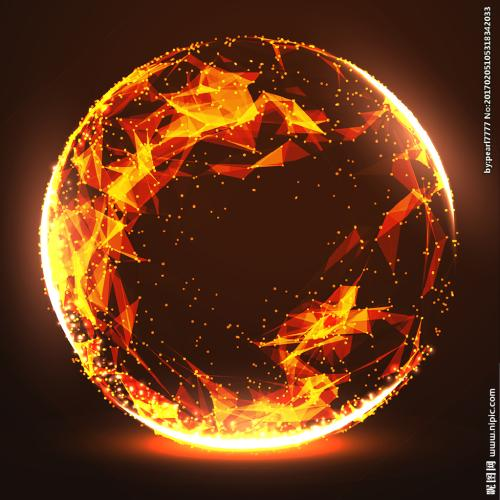ImgView: (1, 1, 499, 499)
